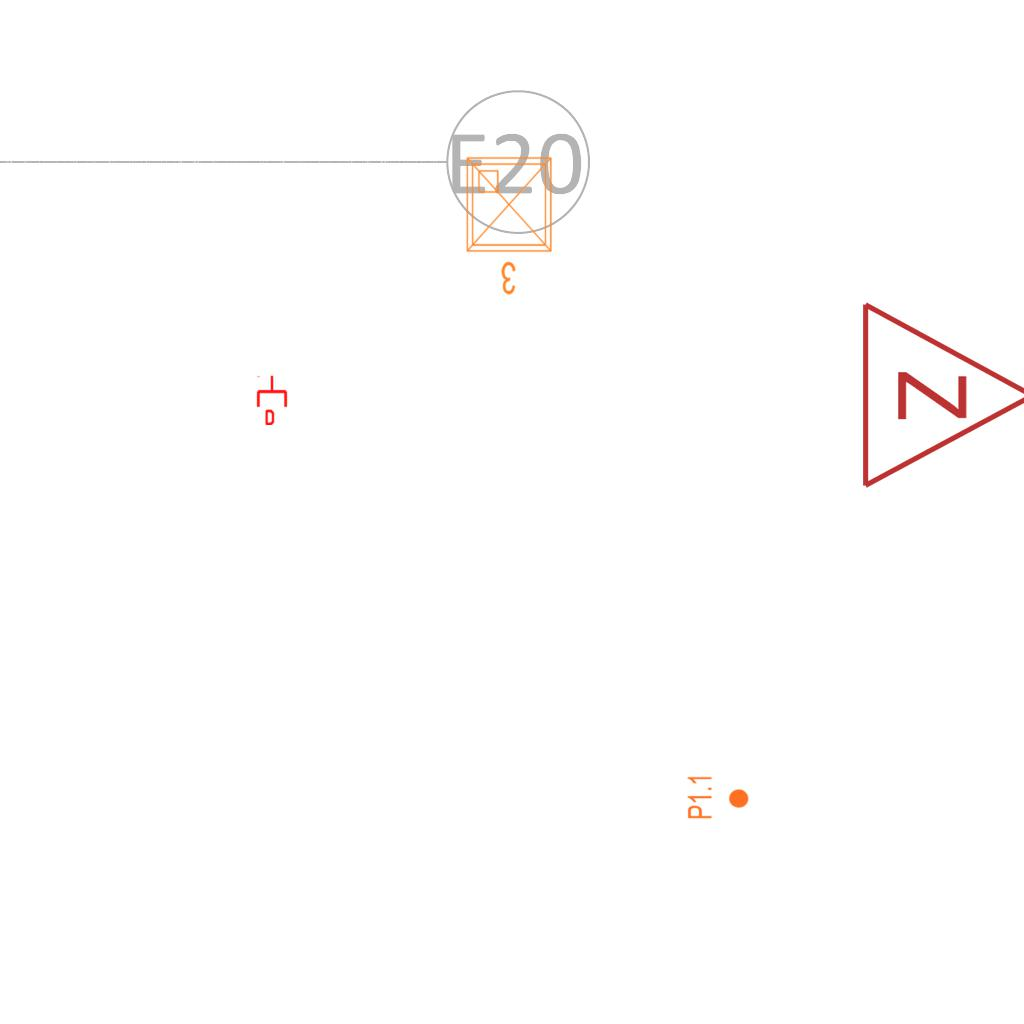Datenanschluss_einfach: (255, 375, 289, 425)
Downlight_LED_Einbauleuchten_Flur: (686, 774, 750, 820)
Einbaudownlights_LED_Konferenzraeume: (459, 150, 563, 300)
Zimmersignalleuchte: (848, 295, 1024, 491)
